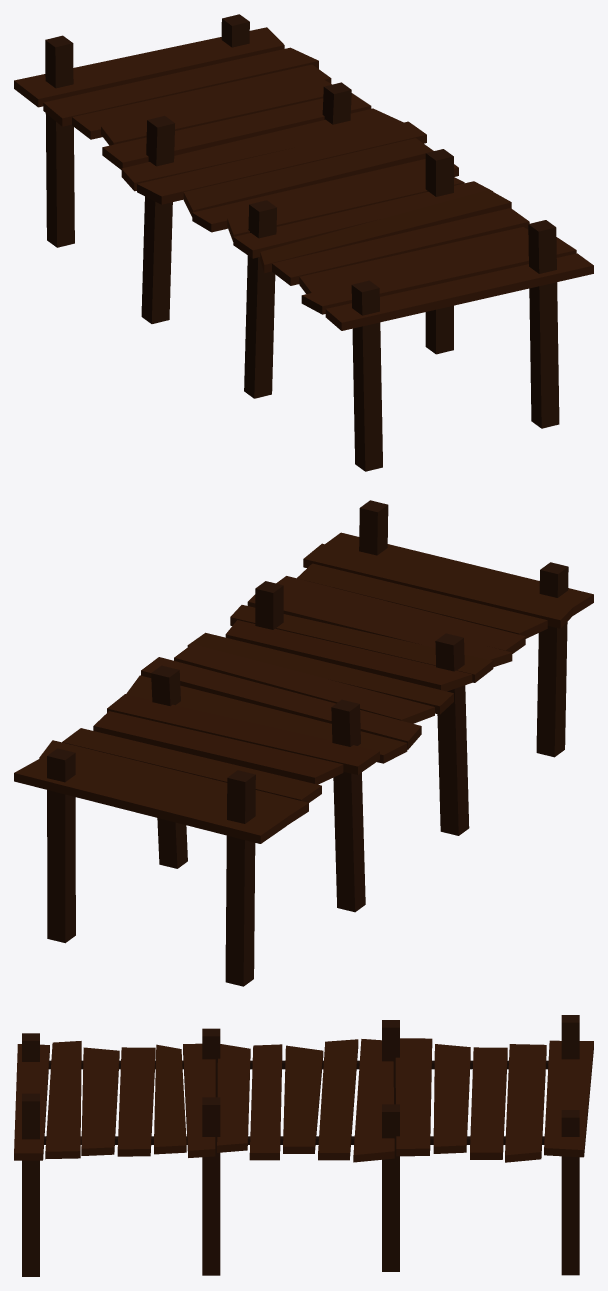
File: harbor.fbx
The picture shows the model from 3 angles, top to bottom: view 1: azimuth 30°, elevation 25°; view 2: azimuth 150°, elevation 25°; view 3: azimuth 270°, elevation 25°; orthographic projection. The views are drawn at different scales.
Visible parts, largest first — view 1: Cube.009, Cube; view 2: Cube.009, Cube; view 3: Cube.009, Cube, Cube.002.
Boxes of the visible parts, x1,y1,x2,y2 form: Cube.009: (14,27,593,330); Cube: (45,14,559,471); Cube.009: (14,532,593,843); Cube: (47,500,568,986); Cube.009: (14,1038,593,1162); Cube: (22,1015,579,1276); Cube.002: (44,1136,544,1144).
Size of the model in its own units: 606 by 434 by 1291.
